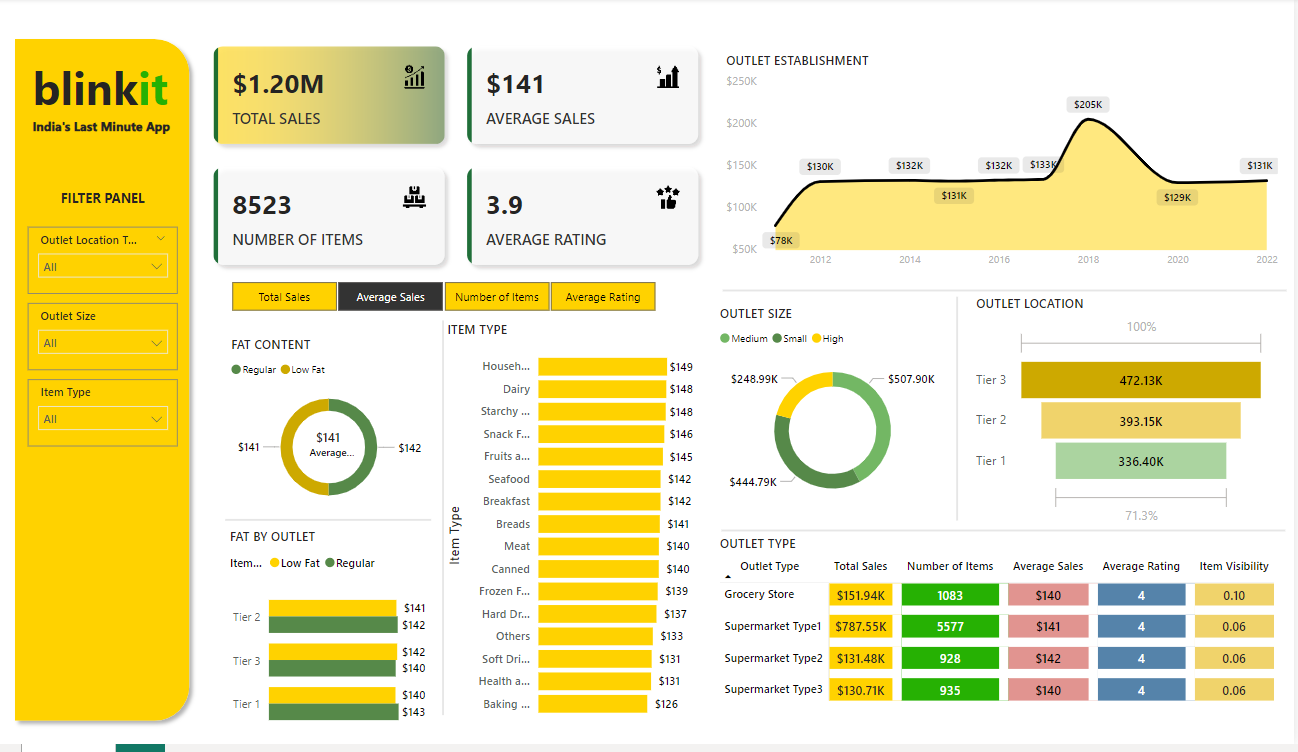

The dashboard page shown, as its layout file describes it:
{"tool":"powerbi","page":{"name":"Page 1","canvas":[1400,800],"ordinal":0},"visuals":[{"type":"shape","box":[18.8,34.9,205.1,749.3],"z":0},{"type":"textbox","box":[41.6,57.6,170.2,112.6],"z":1000},{"type":"textbox","box":[41.6,123.3,170.2,36.2],"z":2000},{"type":"cardVisual","fields":{"Data":["BlinkIT Grocery Data.Total Sales","BlinkIT Grocery Data.Average Sales","BlinkIT Grocery Data.Number of Items","BlinkIT Grocery Data.Average Rating"]},"box":[223.9,34.9,555,269.4],"z":3000},{"type":"lineChart","title":"OUTLET ESTABLISHMENT","fields":{"Y":["BlinkIT Grocery Data.Total Sales"],"Category":["BlinkIT Grocery Data.Outlet Establishment Year"]},"box":[785.5,57.6,601.9,239.9],"z":4000},{"type":"slicer","fields":{"Values":["Metrics.Metrics"]},"box":[234.6,297.6,504,44.2],"z":5000},{"type":"clusteredBarChart","title":"FAT BY OUTLET","fields":{"Y":["BlinkIT Grocery Data.Total Sales"],"Category":["BlinkIT Grocery Data.Outlet Location Type"],"Series":["BlinkIT Grocery Data.Item Fat Content"]},"box":[253.4,568.4,219.8,231.9],"z":6000},{"type":"shape","box":[253.4,544.2,221.2,30.8],"z":7000},{"type":"shape","box":[465.3,345.2,43.5,423.2],"z":8000},{"type":"barChart","title":"ITEM TYPE","fields":{"Y":["BlinkIT Grocery Data.Total Sales"],"Category":["BlinkIT Grocery Data.Item Type"]},"box":[486.6,345.8,273.5,435.7],"z":9000},{"type":"donutChart","title":"FAT CONTENT","fields":{"Y":["BlinkIT Grocery Data.Total Sales"],"Category":["BlinkIT Grocery Data.Item Fat Content"]},"box":[254.7,361.9,219.8,194.4],"z":10000},{"type":"cardVisual","fields":{"Data":["BlinkIT Grocery Data.Total Sales"]},"box":[319,445,89.8,64.3],"z":11000},{"type":"donutChart","title":"OUTLET SIZE","fields":{"Y":["BlinkIT Grocery Data.Total Sales"],"Category":["BlinkIT Grocery Data.Outlet Size"]},"box":[778.8,328.4,252,225.2],"z":12000},{"type":"shape","box":[786.9,285.5,604.6,56.3],"z":13000},{"type":"funnel","title":"OUTLET LOCATION","fields":{"Category":["BlinkIT Grocery Data.Outlet Location Type"],"Y":["Sum(BlinkIT Grocery Data.Sales)"]},"box":[1053.6,317.7,320.4,253.4],"z":14000},{"type":"shape","box":[1022.8,320.4,30.8,239.9],"z":15000},{"type":"shape","box":[785.5,542.9,604.6,56.3],"z":16000},{"type":"pivotTable","title":"OUTLET TYPE","fields":{"Values":["BlinkIT Grocery Data.Total Sales","BlinkIT Grocery Data.Number of Items","BlinkIT Grocery Data.Average Sales","BlinkIT Grocery Data.Average Rating","Avg(BlinkIT Grocery Data.Item Visibility)"],"Rows":["BlinkIT Grocery Data.Outlet Type"]},"box":[778.8,575.1,605.9,219.8],"z":17000},{"type":"slicer","fields":{"Values":["BlinkIT Grocery Data.Outlet Location Type"]},"box":[41.6,245.3,160.9,72.4],"z":18000},{"type":"slicer","fields":{"Values":["BlinkIT Grocery Data.Outlet Size"]},"box":[41.6,327.1,160.9,72.4],"z":19000},{"type":"slicer","fields":{"Values":["BlinkIT Grocery Data.Item Type"]},"box":[41.6,408.8,160.9,72.4],"z":20000},{"type":"textbox","box":[41.6,211.8,160.9,33.5],"z":21000}]}

Visuals, with their boxes in screenshot pixels (x1, y1, x2, y2), scaled from the page's 1400x800 canvas onto the 1298x752 screenshot:
shape: <bbox>17, 33, 208, 737</bbox>
textbox: <bbox>39, 54, 196, 160</bbox>
textbox: <bbox>39, 116, 196, 150</bbox>
cardVisual - BlinkIT Grocery Data.Total Sales x BlinkIT Grocery Data.Average Sales: <bbox>208, 33, 722, 286</bbox>
"OUTLET ESTABLISHMENT" lineChart: <bbox>728, 54, 1286, 280</bbox>
slicer - Metrics.Metrics: <bbox>218, 280, 685, 321</bbox>
"FAT BY OUTLET" clusteredBarChart: <bbox>235, 534, 439, 751</bbox>
shape: <bbox>235, 512, 440, 540</bbox>
shape: <bbox>431, 324, 472, 722</bbox>
"ITEM TYPE" barChart: <bbox>451, 325, 705, 735</bbox>
"FAT CONTENT" donutChart: <bbox>236, 340, 440, 523</bbox>
cardVisual - BlinkIT Grocery Data.Total Sales: <bbox>296, 418, 379, 479</bbox>
"OUTLET SIZE" donutChart: <bbox>722, 309, 956, 520</bbox>
shape: <bbox>730, 268, 1290, 321</bbox>
"OUTLET LOCATION" funnel: <bbox>977, 299, 1274, 537</bbox>
shape: <bbox>948, 301, 977, 527</bbox>
shape: <bbox>728, 510, 1289, 563</bbox>
"OUTLET TYPE" pivotTable: <bbox>722, 541, 1284, 747</bbox>
slicer - BlinkIT Grocery Data.Outlet Location Type: <bbox>39, 231, 188, 299</bbox>
slicer - BlinkIT Grocery Data.Outlet Size: <bbox>39, 307, 188, 376</bbox>
slicer - BlinkIT Grocery Data.Item Type: <bbox>39, 384, 188, 452</bbox>
textbox: <bbox>39, 199, 188, 231</bbox>
